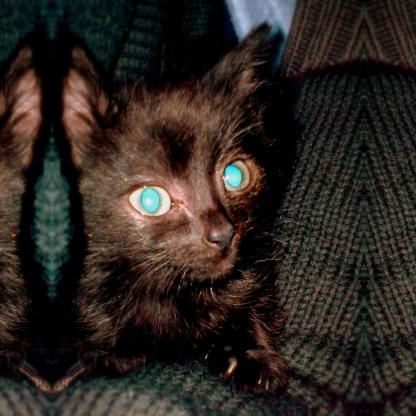Cat: (60, 18, 302, 392)
